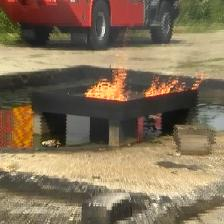fire: (84, 43, 127, 102), (145, 73, 205, 98)
